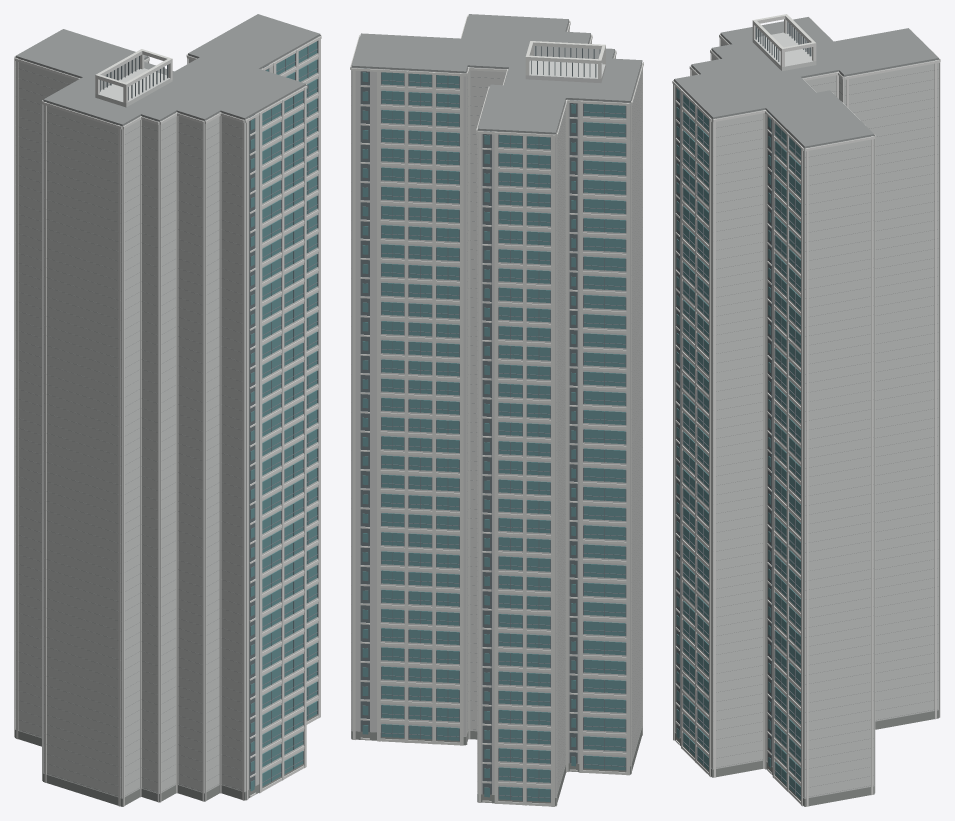
Rendered from bespoke-banpo-riche-107.glb.
The picture shows the model from 3 angles, left to right: view 1: azimuth 30°, elevation 25°; view 2: azimuth 150°, elevation 25°; view 3: azimuth 270°, elevation 25°; orthographic projection. The views are drawn at different scales.
Visible parts, largest first — view 1: Riche107_editable_Riche107_light_grey_solid_wall, Riche107_editable_Riche107_broad_white_facade_frames, Riche107_editable_Riche107_modest_grey_flat_roof_caps, Riche107_editable_Riche107_teal_rectangular_grouped_windows, Riche107_editable_Riche107_dark_horizontal_spandrels_and_mul, Riche107_editable_Riche107_dark_recessed_service_strip, Riche107_editable_Riche107_muted_ground_wall; view 2: Riche107_editable_Riche107_teal_rectangular_grouped_windows, Riche107_editable_Riche107_light_grey_solid_wall, Riche107_editable_Riche107_broad_white_facade_frames, Riche107_editable_Riche107_modest_grey_flat_roof_caps, Riche107_editable_Riche107_dark_horizontal_spandrels_and_mul, Riche107_editable_Riche107_dark_recessed_service_strip, Riche107_editable_Riche107_muted_ground_wall; view 3: Riche107_editable_Riche107_light_grey_solid_wall, Riche107_editable_Riche107_broad_white_facade_frames, Riche107_editable_Riche107_teal_rectangular_grouped_windows, Riche107_editable_Riche107_modest_grey_flat_roof_caps, Riche107_editable_Riche107_dark_horizontal_spandrels_and_mul, Riche107_editable_Riche107_dark_recessed_service_strip, Riche107_editable_Riche107_muted_ground_wall.
Part boxes in pixels (left/top/right/bottom): Riche107_editable_Riche107_light_grey_solid_wall: left=15, top=36, right=319, bottom=798; Riche107_editable_Riche107_broad_white_facade_frames: left=14, top=34, right=321, bottom=806; Riche107_editable_Riche107_modest_grey_flat_roof_caps: left=15, top=14, right=320, bottom=795; Riche107_editable_Riche107_teal_rectangular_grouped_windows: left=250, top=41, right=317, bottom=791; Riche107_editable_Riche107_dark_horizontal_spandrels_and_mul: left=262, top=41, right=318, bottom=783; Riche107_editable_Riche107_dark_recessed_service_strip: left=100, top=56, right=269, bottom=789; Riche107_editable_Riche107_muted_ground_wall: left=15, top=714, right=318, bottom=806; Riche107_editable_Riche107_teal_rectangular_grouped_windows: left=362, top=72, right=625, bottom=801; Riche107_editable_Riche107_light_grey_solid_wall: left=351, top=22, right=642, bottom=797; Riche107_editable_Riche107_broad_white_facade_frames: left=350, top=15, right=643, bottom=806; Riche107_editable_Riche107_modest_grey_flat_roof_caps: left=351, top=14, right=642, bottom=791; Riche107_editable_Riche107_dark_horizontal_spandrels_and_mul: left=381, top=72, right=626, bottom=802; Riche107_editable_Riche107_dark_recessed_service_strip: left=360, top=46, right=600, bottom=794; Riche107_editable_Riche107_muted_ground_wall: left=351, top=727, right=642, bottom=806; Riche107_editable_Riche107_light_grey_solid_wall: left=674, top=32, right=938, bottom=798; Riche107_editable_Riche107_broad_white_facade_frames: left=672, top=14, right=940, bottom=806; Riche107_editable_Riche107_teal_rectangular_grouped_windows: left=676, top=88, right=800, bottom=799; Riche107_editable_Riche107_modest_grey_flat_roof_caps: left=674, top=17, right=938, bottom=796; Riche107_editable_Riche107_dark_horizontal_spandrels_and_mul: left=682, top=94, right=800, bottom=796; Riche107_editable_Riche107_dark_recessed_service_strip: left=676, top=21, right=810, bottom=766; Riche107_editable_Riche107_muted_ground_wall: left=674, top=710, right=939, bottom=806.
Size of the model in its own units: 41.53 by 101 by 35.86.
